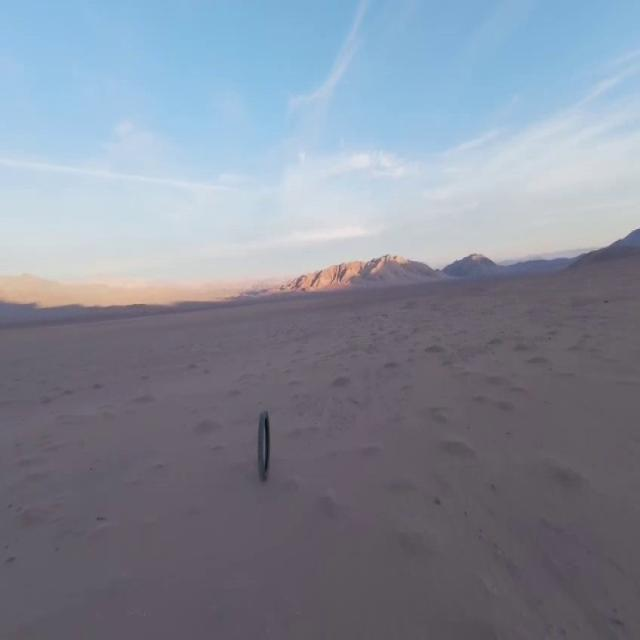Tire: (258, 411, 270, 481)
